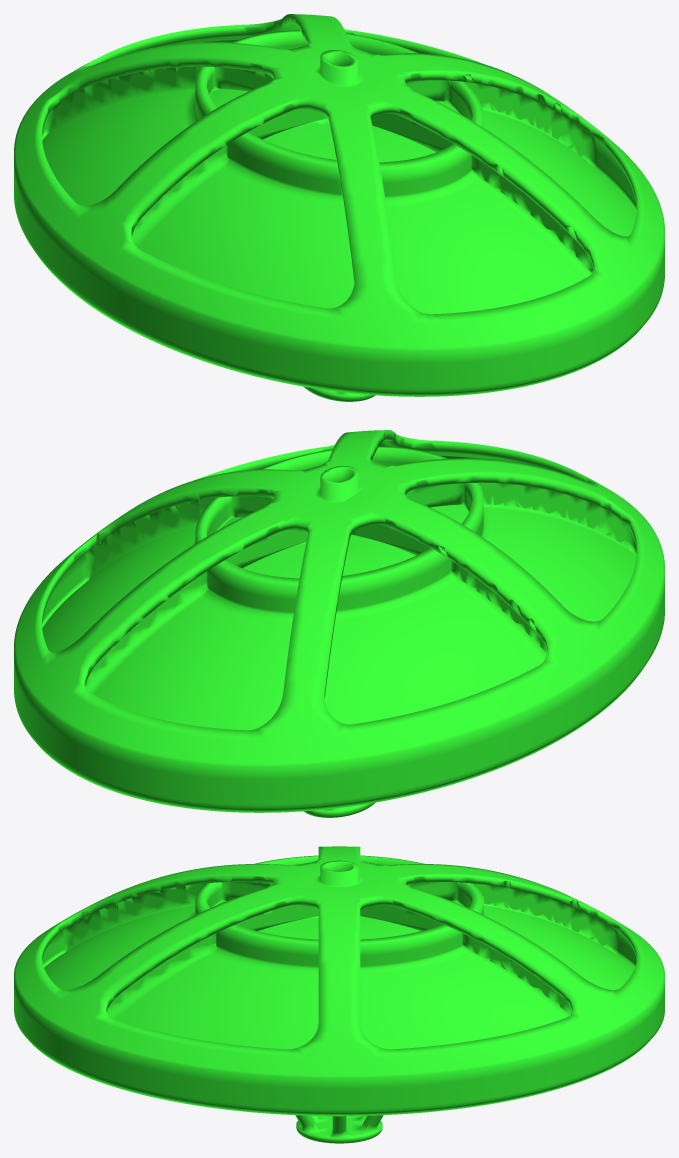
Rendered from Europa.obj.
3 renders of one model, top to bottom at view 1: azimuth 30°, elevation 25°; view 2: azimuth 150°, elevation 25°; view 3: azimuth 270°, elevation 25°, orthographic. The views are drawn at different scales.
Visible parts, largest first — view 1: Europa; view 2: Europa; view 3: Europa.
Boxes of the visible parts, bbox=[...] form: Europa: bbox=[14, 14, 664, 401]; Europa: bbox=[14, 430, 664, 817]; Europa: bbox=[14, 846, 664, 1143].
Bounding box in the file's own units: 0.7469 × 0.4479 × 0.9998.
